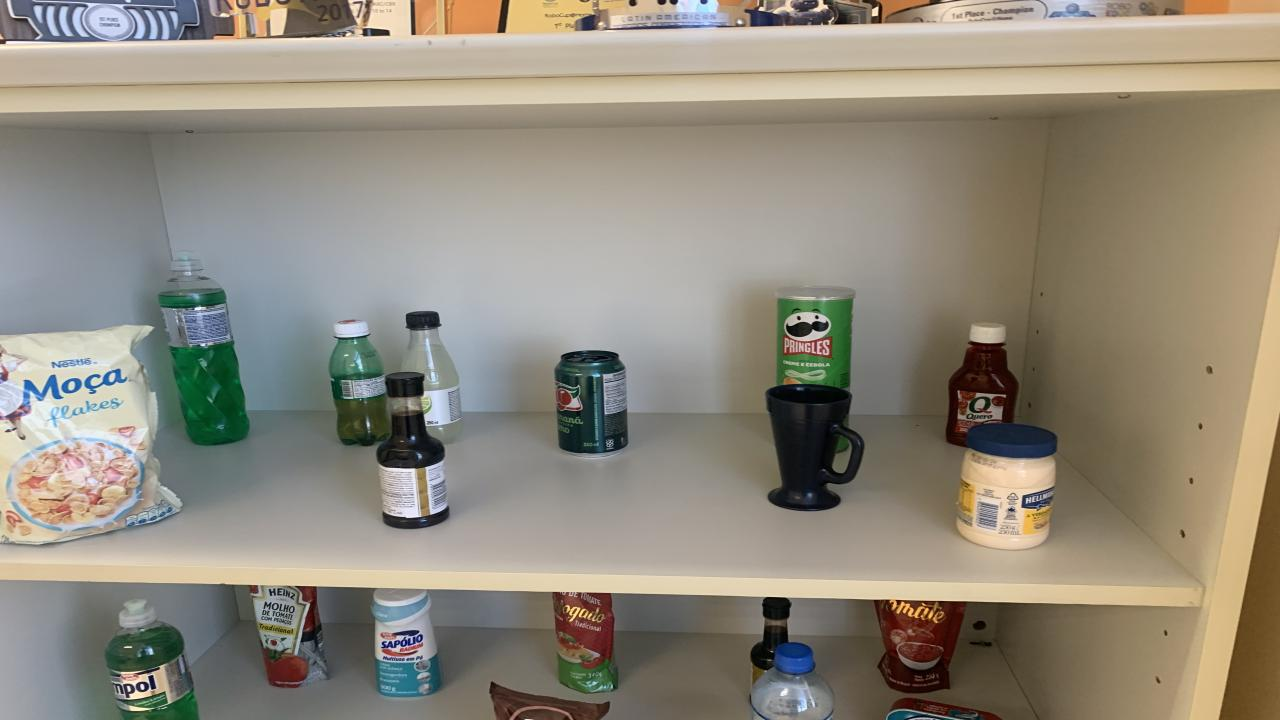Cleaner-Cleanup_Items: (370, 589, 442, 696)
Coffee-Pantry_Items: (490, 682, 610, 720)
Detergent-Cleanup_Items: (158, 253, 250, 444), (105, 600, 198, 720)
English_Sauce-Pantry_Items: (378, 371, 450, 529), (750, 596, 790, 682)
Flakes-Snacks: (0, 324, 180, 544)
Guarana-Drinks: (328, 319, 390, 446)
Guarana_Can-Drinks: (555, 351, 628, 456)
Ketchup-Pantry_Items: (945, 322, 1018, 446)
Mayonnaise-Pantry_Items: (958, 422, 1058, 549)
Pringles-Snacks: (775, 287, 855, 390)
Soda-Drinks: (400, 311, 462, 444)
Tomato_Sauce-Pantry_Items: (875, 600, 965, 692), (250, 585, 328, 688), (552, 592, 618, 694)
Tuna_Can-Pantry_Items: (885, 698, 1000, 720)
Water_Bottle-Drinks: (750, 641, 835, 720)
